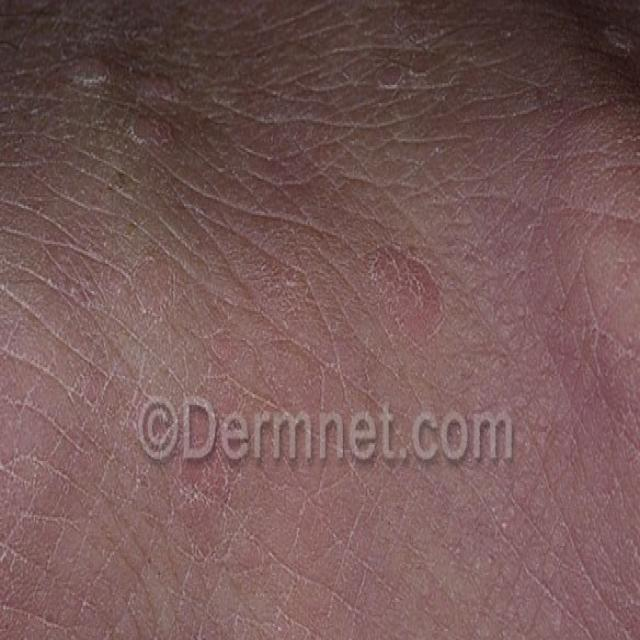Warts: (28, 117, 639, 640)
